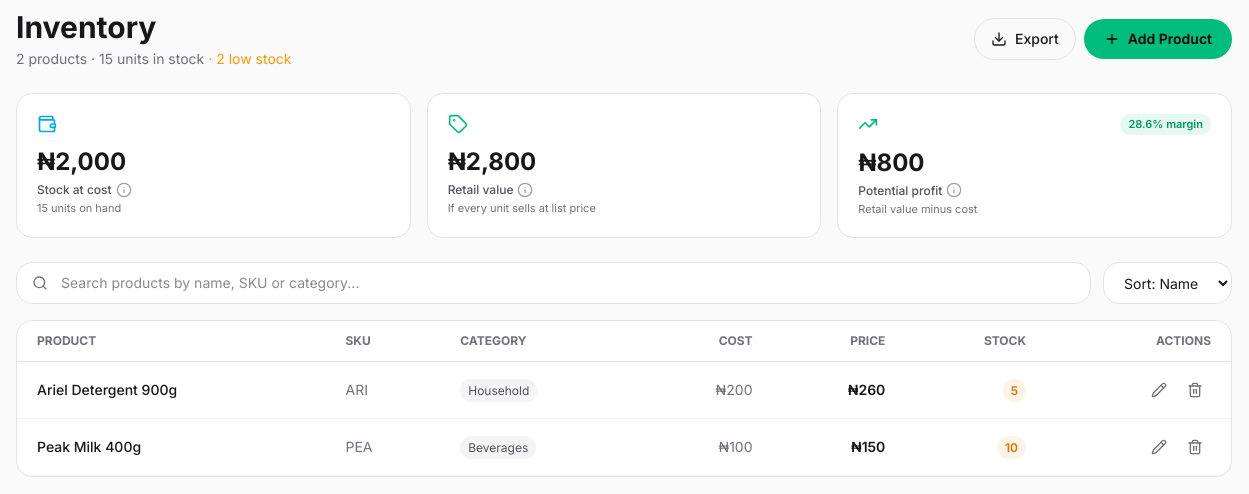
Scenario: Inventory: worth summary › counts the whole catalogue, not the filtered table
The image size is (1249, 494).
Expected: the element named "inventory worth" is shown, 16,93 -> 1232,238
Type "Peak" into the field labelled "Search products by name, SKU or category...". click: (554, 283)
box: 16,262 -> 1091,304
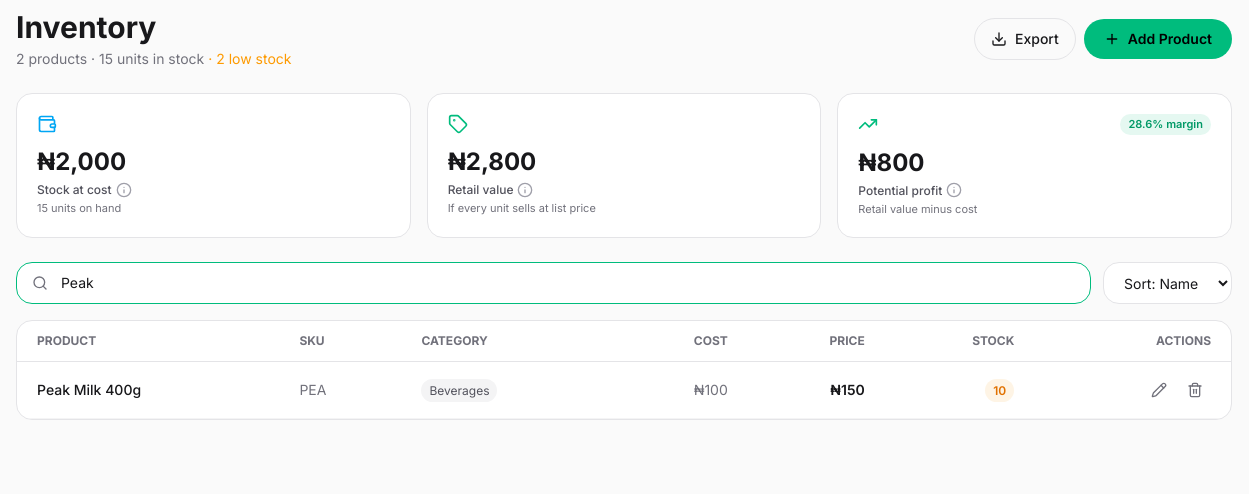
Expected: the text "Peak Milk 400g" is shown, 37,380 -> 141,400
Now the text "Ariel Detergent 900g" is not shown
